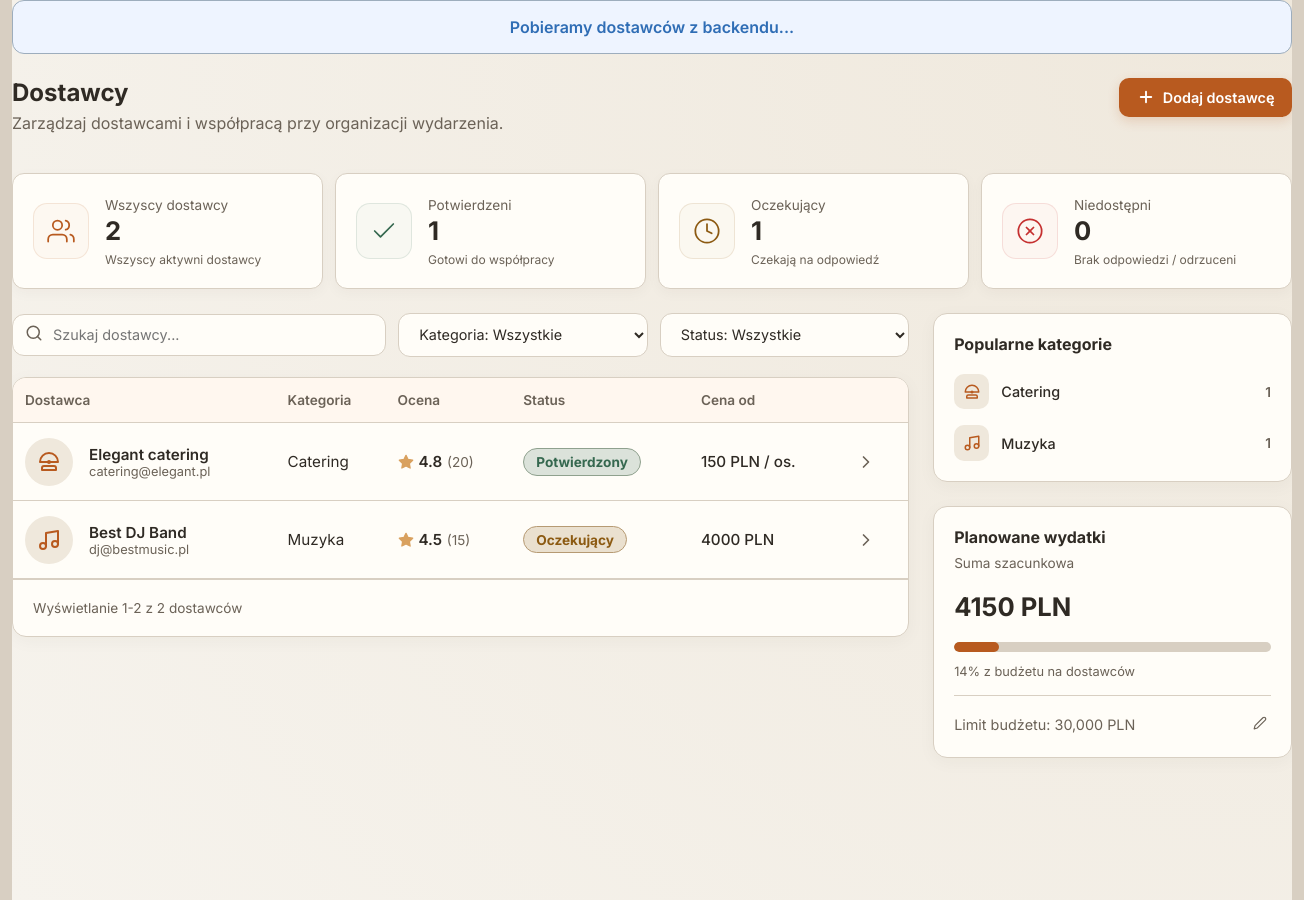
Test: VendorsPage Component › filters vendors by selecting category from dropdown
This screenshot has width=1304, height=900.
Select "Muzyka" in the 1st dropdown: (523, 335) [398,313,648,357]
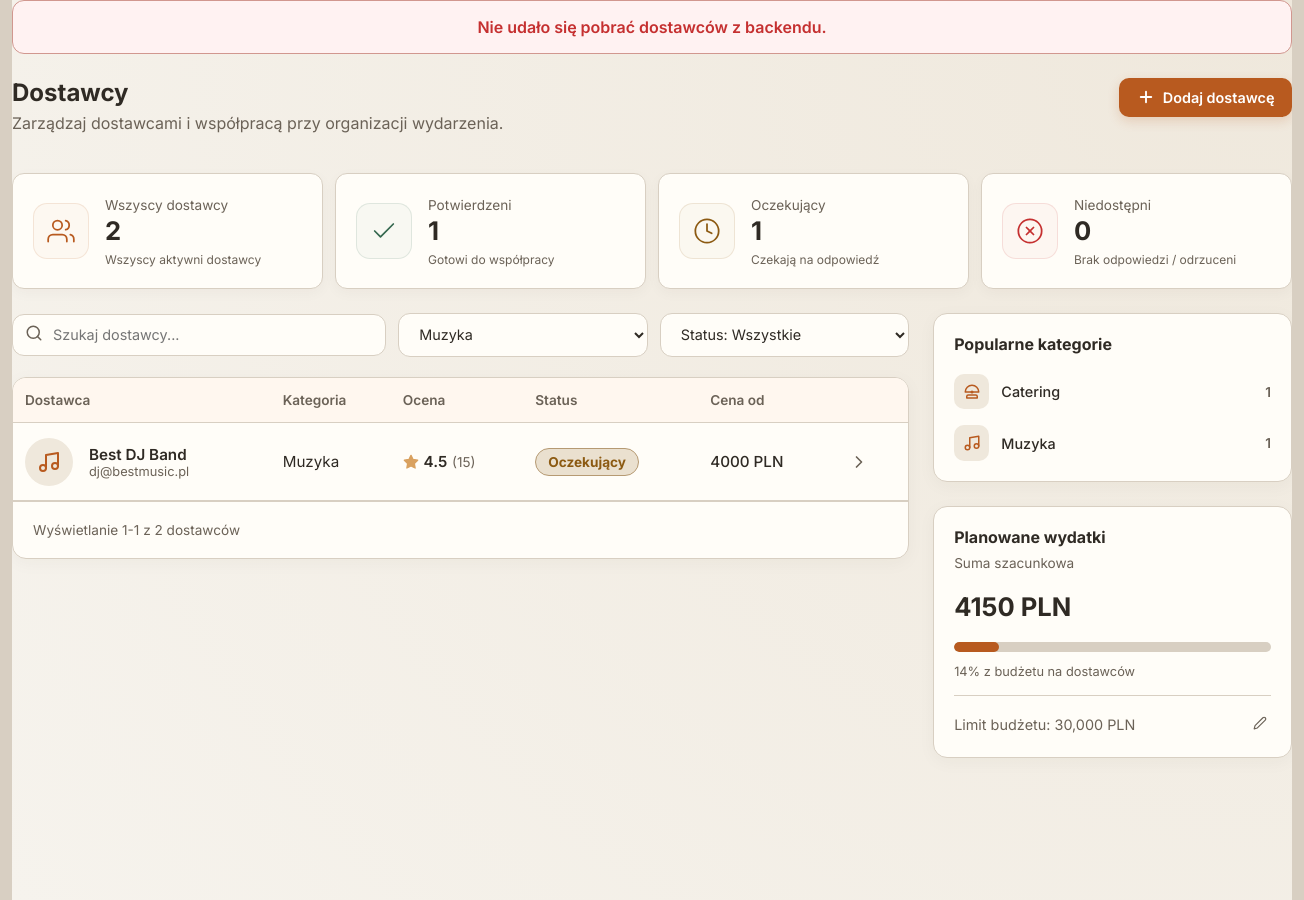
Expected: the text "Best DJ Band" is shown, [89,445,189,464]
Now the text "Elegant catering" is gone
